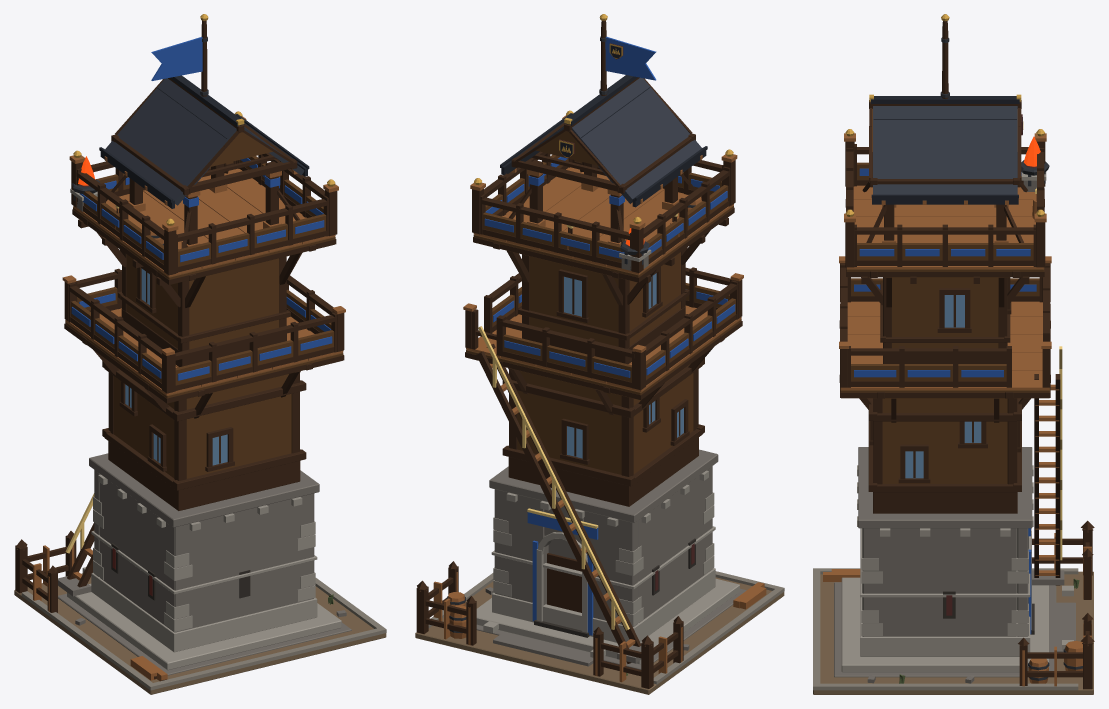
3 renders of one model, left to right at view 1: azimuth 30°, elevation 25°; view 2: azimuth 150°, elevation 25°; view 3: azimuth 270°, elevation 25°, orthographic. The views are drawn at different scales.
Visible parts, largest first — view 1: WT-wood_dark, WT-wood_mid, WT-stone_mid, WT-stone_light, WT-wood_warm, WT-roof, WT-team, WT-earth, WT-paving, WT-roof_edge, WT-glass, WT-stone_dark; view 2: WT-wood_dark, WT-wood_mid, WT-stone_mid, WT-stone_light, WT-wood_warm, WT-roof, WT-team, WT-earth, WT-team_trim, WT-roof_edge, WT-paving, WT-glass (+1 smaller); view 3: WT-wood_dark, WT-stone_mid, WT-wood_mid, WT-wood_warm, WT-stone_light, WT-roof, WT-earth, WT-paving, WT-roof_edge, WT-team, WT-glass, WT-team_trim (+1 smaller).
Part boxes in pixels (left/top/right/bottom): WT-wood_dark: left=15, top=20, right=344, bottom=680; WT-wood_mid: left=65, top=132, right=343, bottom=478; WT-stone_mid: left=58, top=198, right=351, bottom=675; WT-stone_light: left=67, top=188, right=341, bottom=670; WT-wood_warm: left=33, top=116, right=345, bottom=681; WT-roof: left=105, top=78, right=304, bottom=205; WT-team: left=71, top=37, right=332, bottom=380; WT-earth: left=14, top=573, right=386, bottom=694; WT-paving: left=21, top=578, right=386, bottom=690; WT-roof_edge: left=99, top=75, right=309, bottom=208; WT-glass: left=125, top=268, right=227, bottom=465; WT-stone_dark: left=111, top=543, right=250, bottom=600; WT-wood_dark: left=416, top=20, right=742, bottom=688; WT-wood_mid: left=466, top=131, right=741, bottom=474; WT-stone_mid: left=476, top=255, right=746, bottom=669; WT-stone_light: left=476, top=249, right=739, bottom=664; WT-wood_warm: left=433, top=115, right=766, bottom=682; WT-roof: left=504, top=77, right=701, bottom=203; WT-team: left=484, top=36, right=735, bottom=635; WT-earth: left=415, top=577, right=784, bottom=694; WT-team_trim: left=478, top=213, right=677, bottom=630; WT-roof_edge: left=500, top=45, right=707, bottom=207; WT-paving: left=428, top=571, right=784, bottom=684; WT-glass: left=564, top=273, right=683, bottom=458; WT-wood_dark: left=839, top=21, right=1094, bottom=689; WT-stone_mid: left=834, top=180, right=1075, bottom=683; WT-wood_mid: left=840, top=109, right=1049, bottom=483; WT-wood_warm: left=823, top=133, right=1091, bottom=686; WT-stone_light: left=841, top=172, right=1073, bottom=672; WT-roof: left=873, top=106, right=1017, bottom=194; WT-earth: left=813, top=571, right=1093, bottom=694; WT-paving: left=813, top=568, right=1078, bottom=690; WT-roof_edge: left=871, top=96, right=1022, bottom=204; WT-team: left=854, top=168, right=1036, bottom=634; WT-glass: left=905, top=295, right=981, bottom=478; WT-team_trim: left=1035, top=188, right=1062, bottom=560.
Bounding box in the file's own units: 7.16 × 17.34 × 7.12.
